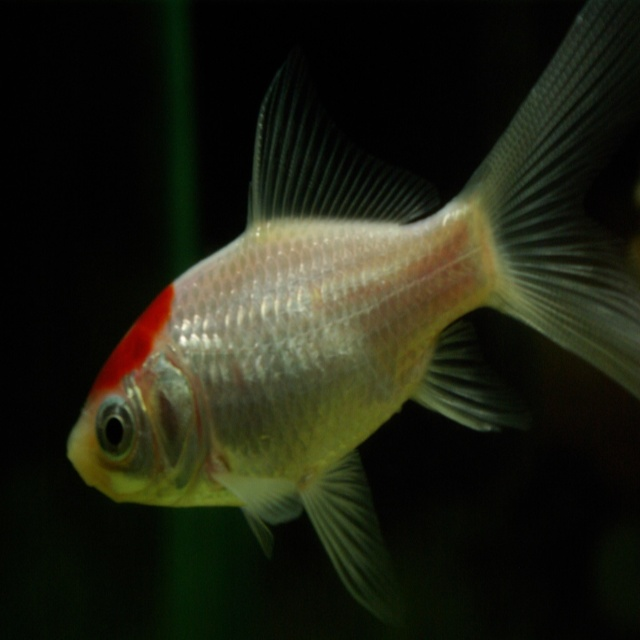Fish: (67, 1, 640, 623)
